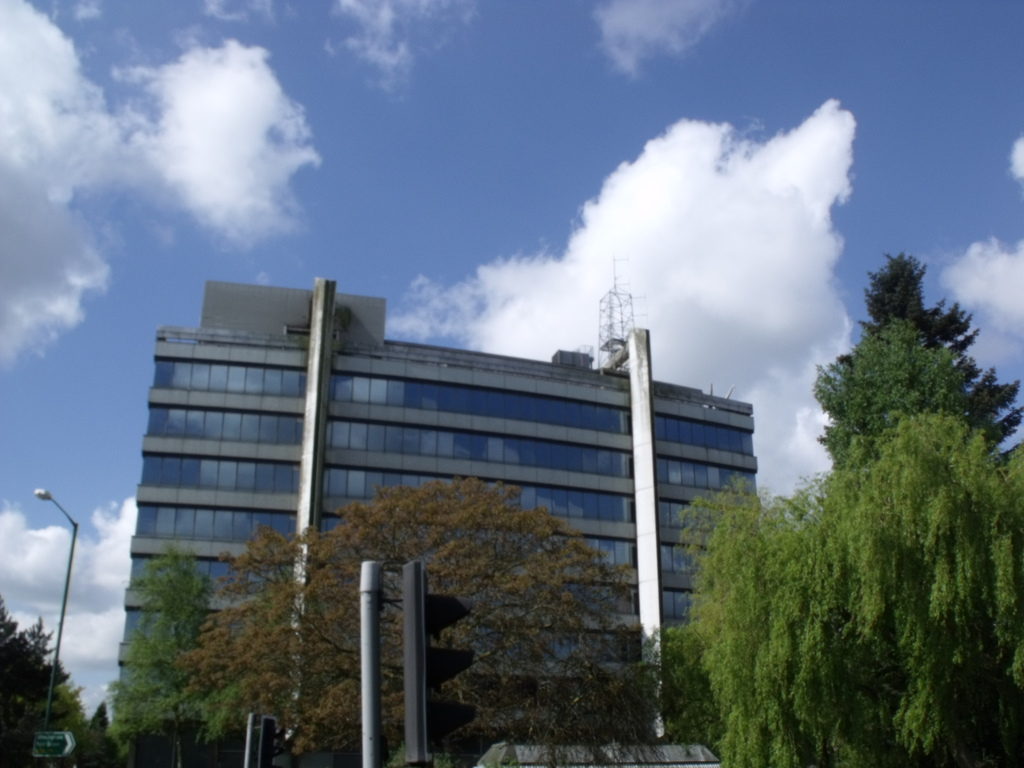Tree: (674, 250, 1022, 767), (176, 471, 636, 767), (103, 535, 213, 767), (0, 595, 101, 767), (206, 673, 276, 767)
